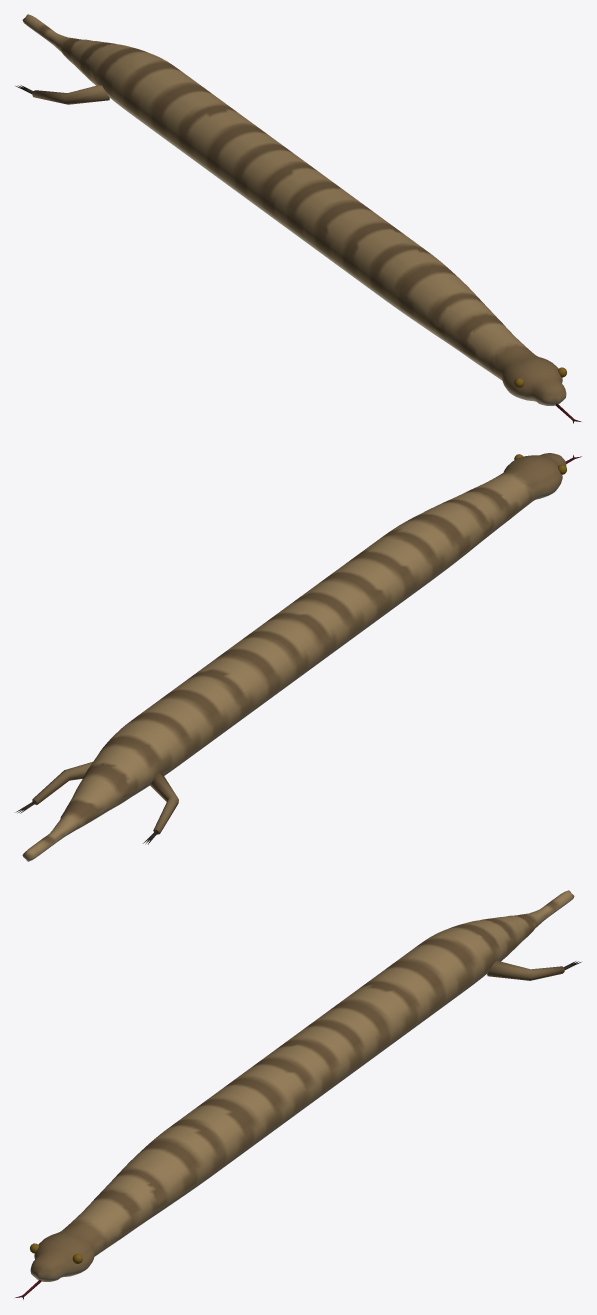
File: NajashRionegrina.fbx
The picture shows the model from 3 angles, top to bottom: view 1: azimuth 30°, elevation 25°; view 2: azimuth 150°, elevation 25°; view 3: azimuth 330°, elevation 25°; orthographic projection.
Visible parts, largest first — view 1: NajashRionegrina; view 2: NajashRionegrina; view 3: NajashRionegrina.
Part boxes in pixels (x1=…): NajashRionegrina: x1=15, y1=14, x2=581, y2=423; NajashRionegrina: x1=15, y1=453, x2=581, y2=861; NajashRionegrina: x1=15, y1=890, x2=581, y2=1299.
Bounding box in the file's own units: 0.3486 × 0.1491 × 2.5.
